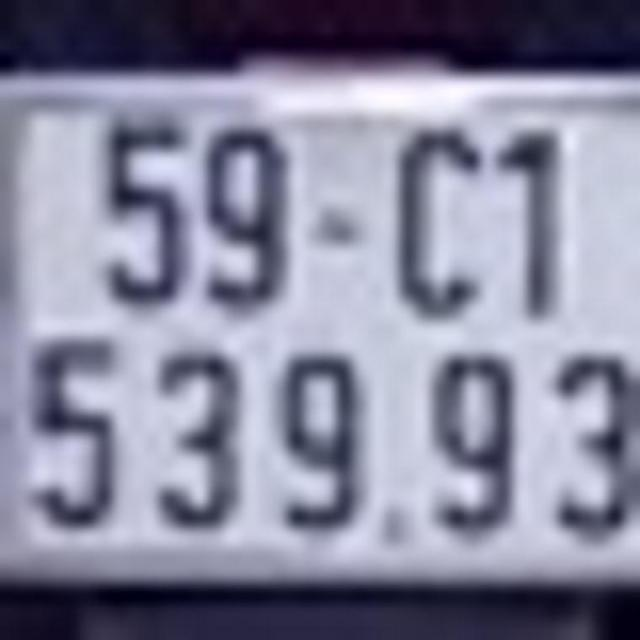1: (492, 126, 564, 324)
3: (552, 352, 636, 542), (157, 344, 240, 529)
5: (28, 334, 118, 528), (106, 122, 191, 306)
9: (431, 350, 515, 534), (205, 128, 288, 305), (280, 345, 354, 530)
C: (393, 125, 482, 318)
